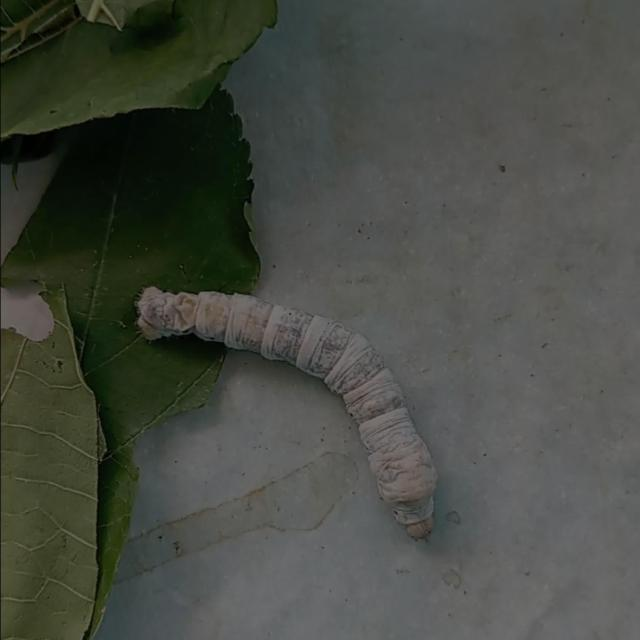Grasserie: (132, 273, 446, 548)
